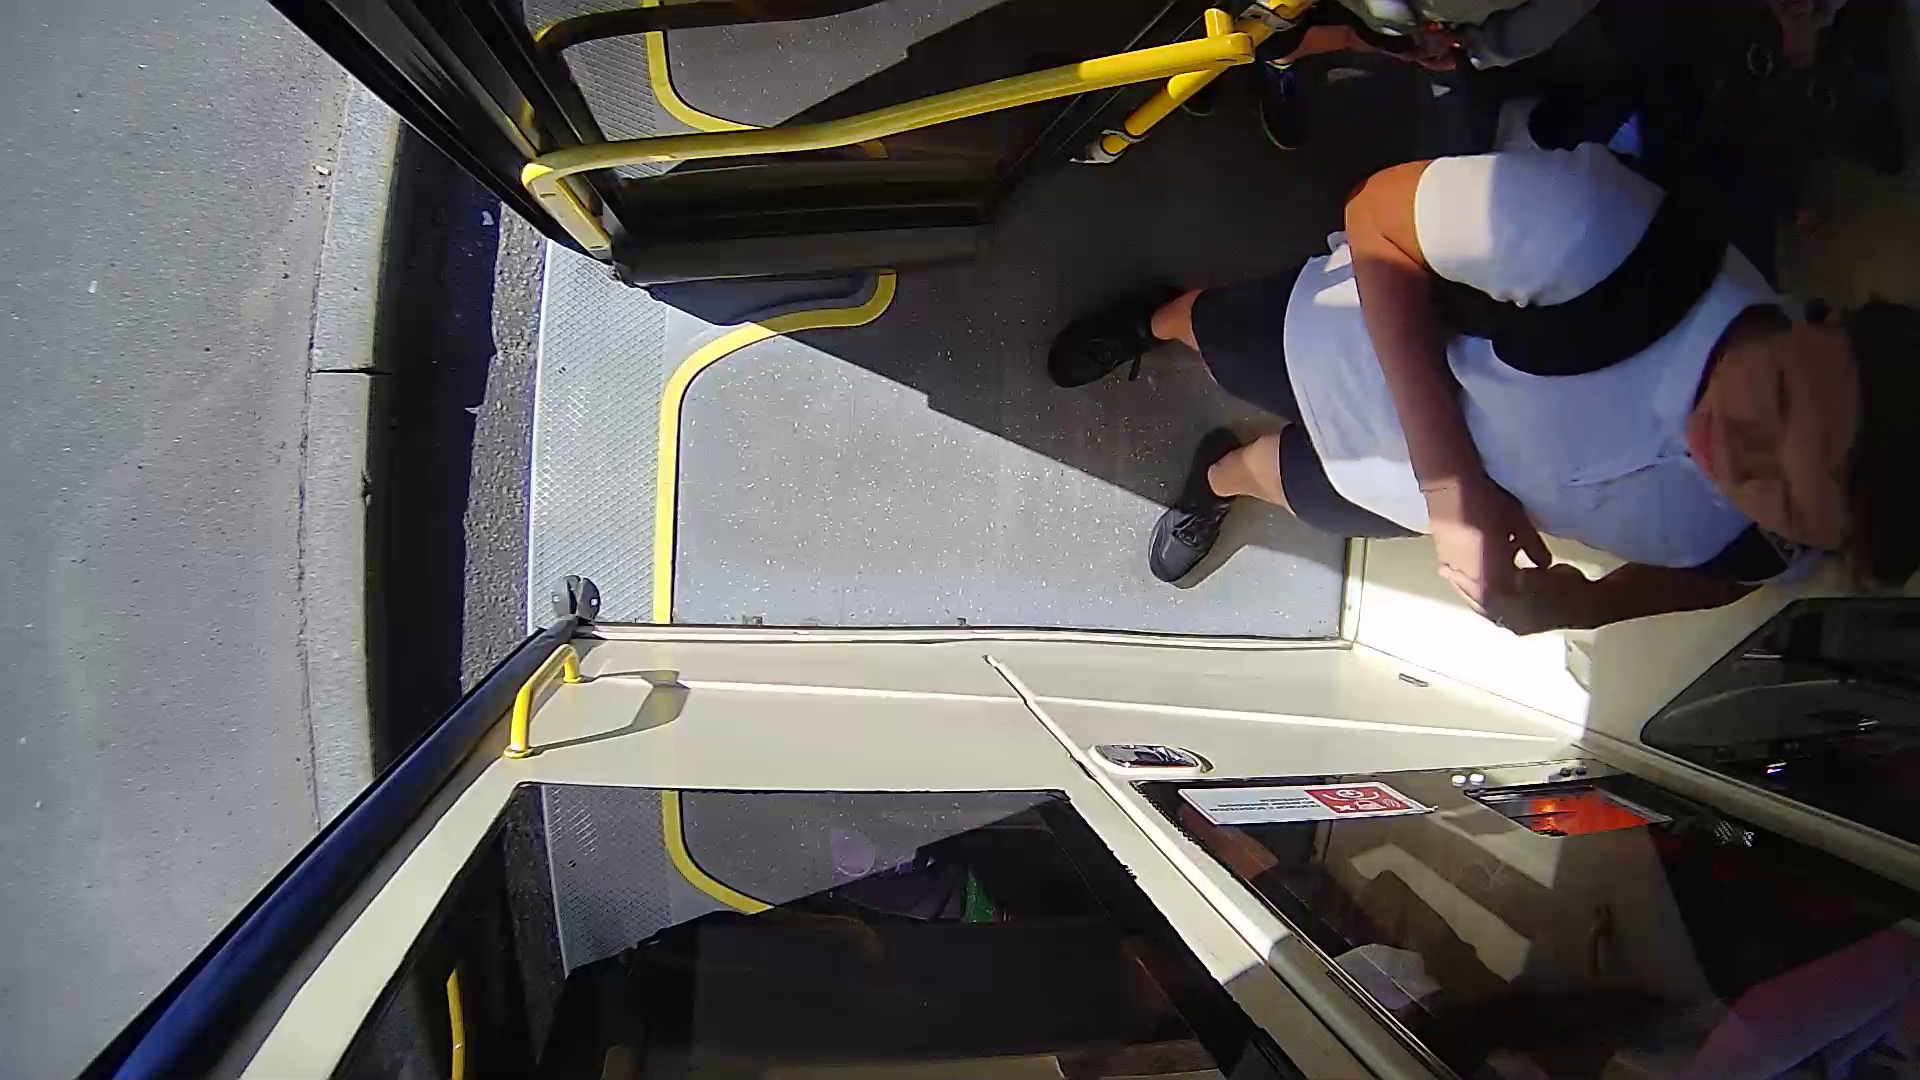person: (1180, 85, 1896, 655)
